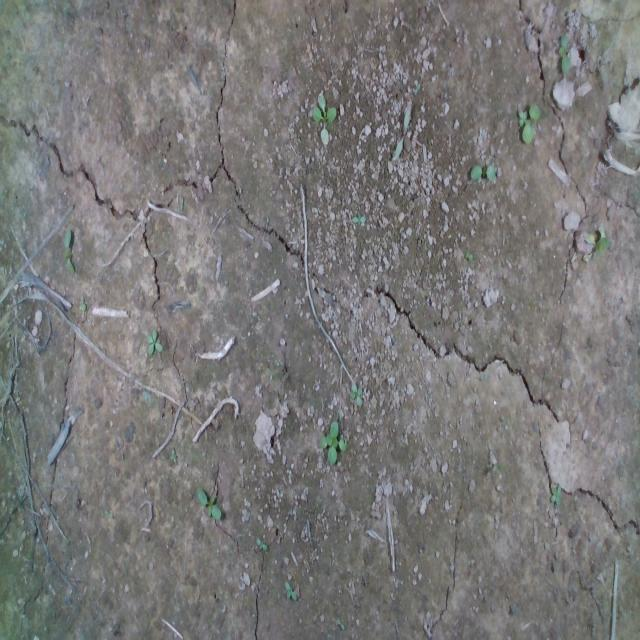weed: (310, 90, 342, 128), (194, 484, 222, 522), (320, 419, 342, 463), (516, 100, 534, 145), (469, 156, 498, 182), (556, 31, 572, 74), (280, 577, 300, 603), (144, 328, 162, 356), (348, 382, 360, 404)
